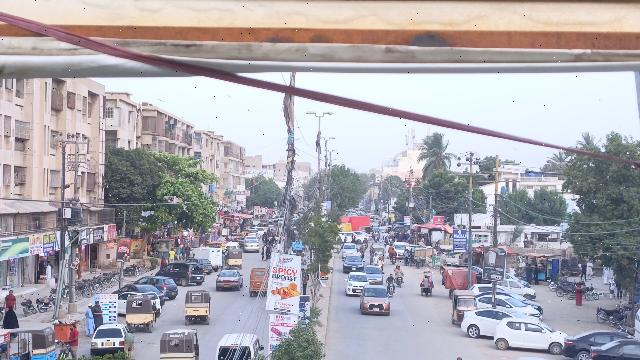Car: (493, 315, 567, 354), (459, 307, 519, 337), (561, 328, 616, 360), (89, 322, 133, 354), (157, 260, 205, 286), (588, 337, 640, 360), (359, 282, 392, 315), (215, 270, 245, 293), (344, 271, 370, 297)
Cart: (416, 266, 436, 298)
Person: (82, 301, 95, 335), (122, 330, 135, 356), (91, 300, 103, 325), (422, 274, 431, 298)
Rickshaw: (157, 329, 201, 360), (124, 294, 157, 331), (183, 288, 212, 327), (449, 288, 476, 327), (246, 266, 269, 297), (225, 248, 243, 269)
Truck: (195, 245, 223, 270)
Van: (215, 332, 266, 360)
